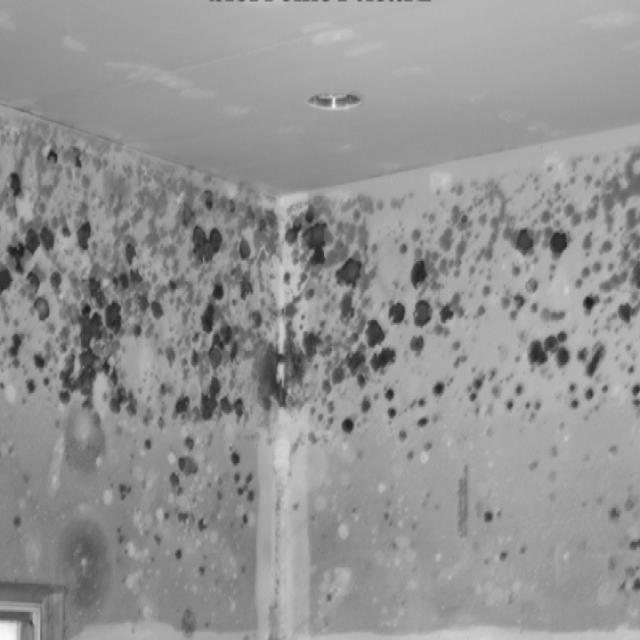stain marks: (1, 113, 638, 558)
